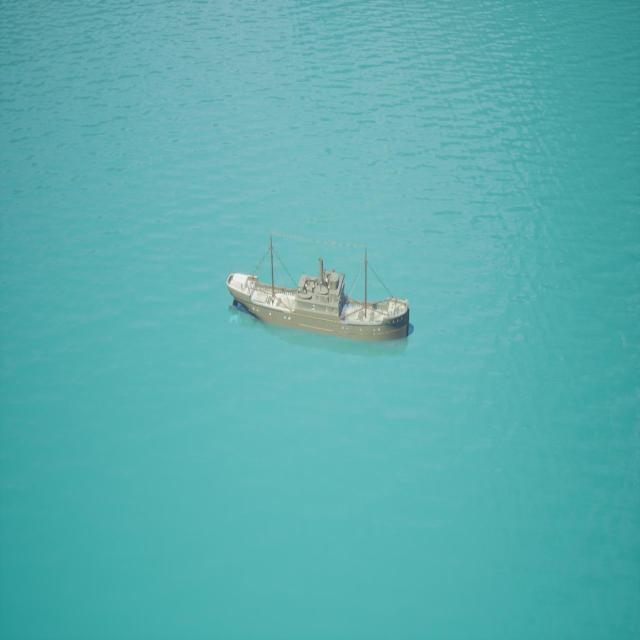fishing ship: (227, 235, 413, 349)
